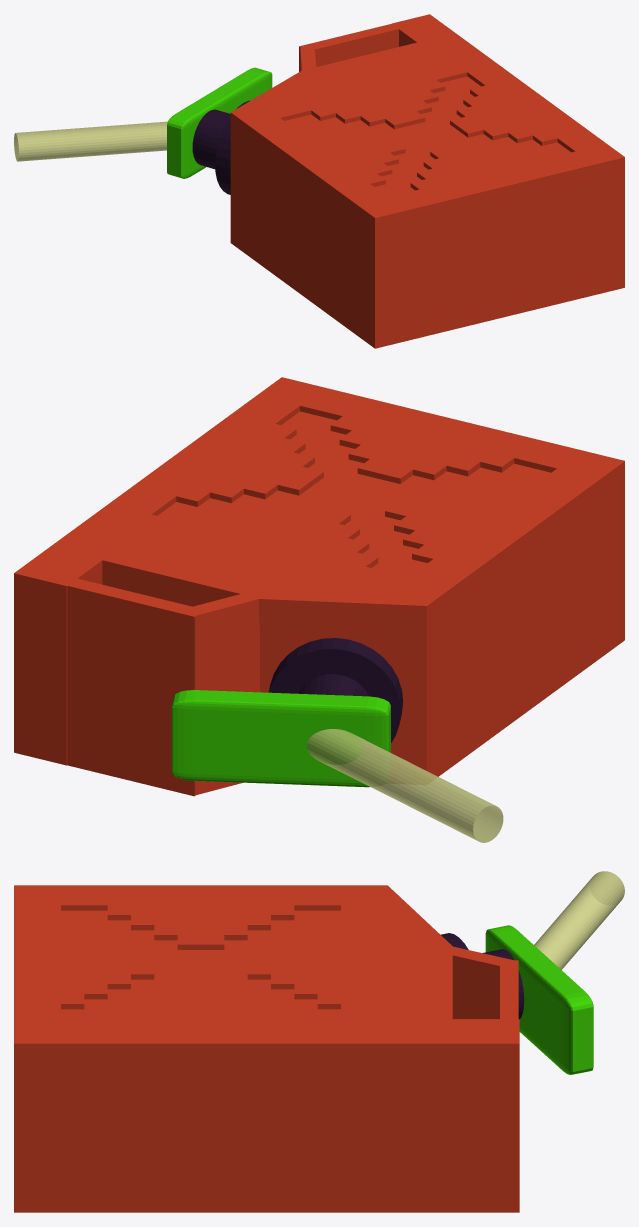
The model's file is gas_canister.fbx.
3 renders of one model, top to bottom at view 1: azimuth 30°, elevation 25°; view 2: azimuth 150°, elevation 25°; view 3: azimuth 270°, elevation 25°, orthographic. The views are drawn at different scales.
Parts seen in each view (by area): view 1: Tank, Hose, Valve, Tube; view 2: Tank, Valve, Hose, Tube; view 3: Tank, Valve, Hose, Tube.
Boxes of the visible parts, left/top/right/bottom form: Tank: left=230, top=14, right=624, bottom=348; Hose: left=14, top=121, right=167, bottom=161; Valve: left=167, top=67, right=272, bottom=178; Tube: left=192, top=100, right=249, bottom=194; Tank: left=14, top=377, right=624, bottom=796; Valve: left=171, top=690, right=390, bottom=787; Hose: left=307, top=729, right=503, bottom=842; Tube: left=268, top=638, right=403, bottom=742; Tank: left=14, top=885, right=519, bottom=1212; Valve: left=485, top=925, right=593, bottom=1074; Hose: left=534, top=871, right=624, bottom=969; Tube: left=441, top=933, right=524, bottom=1019.
Size of the model in its own units: 307 by 100 by 327.
